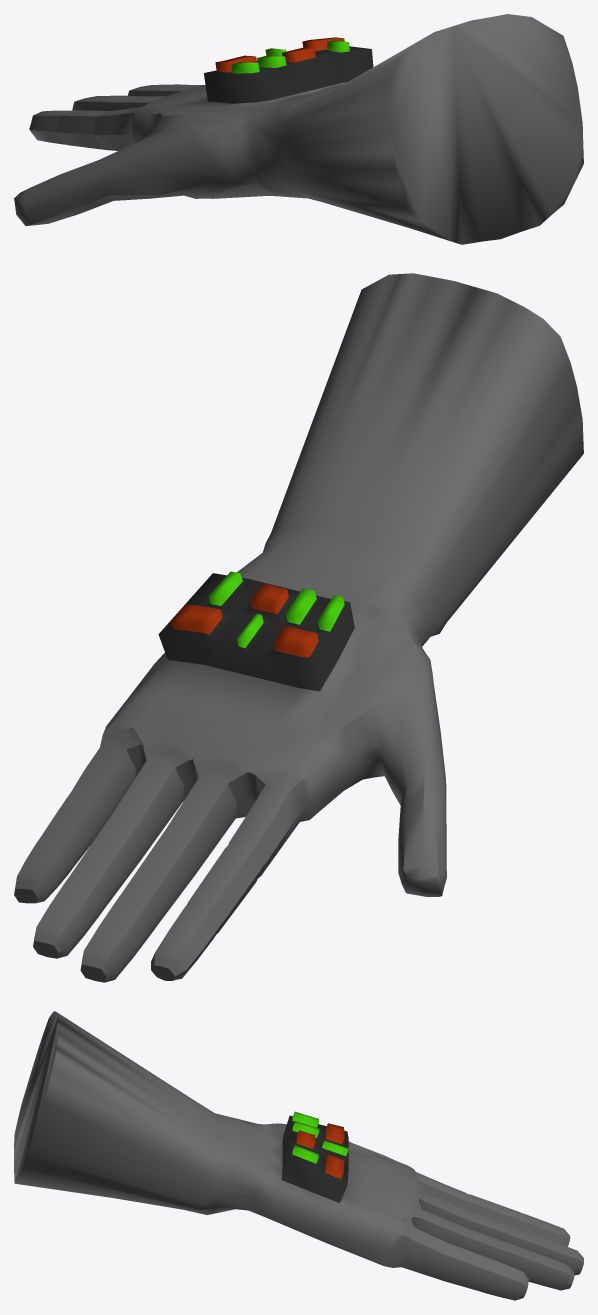
Rendered from Tactical_Glove.fbx.
3 views of the same model, one above another, from view 1: azimuth 30°, elevation 25°; view 2: azimuth 150°, elevation 25°; view 3: azimuth 270°, elevation 25° (orthographic). The views are drawn at different scales.
Parts seen in each view (by area): view 1: Tactical_Gloves; view 2: Tactical_Gloves; view 3: Tactical_Gloves.
Part boxes in pixels (left/top/right/bottom): Tactical_Gloves: left=14, top=14, right=583, bottom=244; Tactical_Gloves: left=14, top=273, right=583, bottom=982; Tactical_Gloves: left=14, top=1011, right=583, bottom=1300.
Bounding box in the file's own units: 19.51 × 20.66 × 41.02.
1 material, 1 textured.
